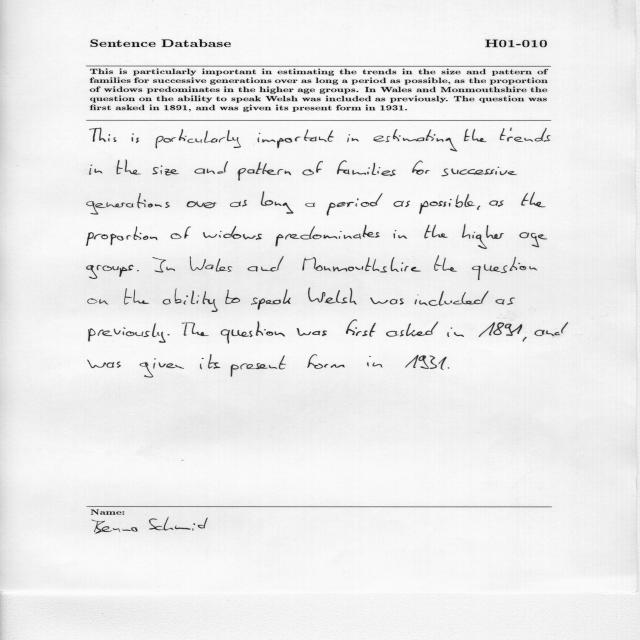word: (275, 225, 380, 246), (374, 129, 458, 152), (87, 193, 170, 215), (302, 257, 421, 272), (155, 129, 241, 148), (89, 323, 166, 343), (472, 257, 537, 280), (257, 130, 334, 149), (221, 322, 285, 344), (87, 227, 157, 246), (163, 288, 218, 312), (327, 193, 383, 216), (231, 355, 286, 377), (420, 194, 476, 214), (415, 291, 489, 306), (462, 224, 504, 249), (238, 162, 291, 181), (337, 161, 396, 177), (251, 289, 291, 310), (140, 359, 184, 378), (203, 226, 262, 240), (308, 288, 357, 304), (386, 322, 438, 337), (441, 167, 517, 177), (261, 192, 294, 214), (500, 128, 551, 142), (87, 265, 134, 279), (479, 322, 522, 337), (190, 257, 232, 272), (405, 355, 447, 370), (248, 256, 284, 272), (307, 354, 345, 369), (346, 320, 376, 337), (535, 322, 569, 336), (194, 161, 228, 174), (124, 288, 149, 305), (519, 233, 547, 248), (181, 322, 209, 336), (90, 128, 117, 142), (116, 160, 141, 175), (434, 256, 457, 272), (521, 192, 545, 207), (152, 257, 175, 272), (424, 225, 448, 239), (200, 355, 220, 370), (302, 161, 323, 175), (464, 129, 486, 142), (87, 360, 121, 368), (152, 166, 179, 176), (412, 160, 430, 175), (171, 226, 191, 239), (297, 328, 327, 336), (370, 298, 404, 305), (187, 201, 217, 208), (225, 290, 240, 304), (367, 356, 382, 367), (495, 297, 515, 305), (447, 328, 464, 337), (90, 165, 103, 175), (393, 230, 407, 239), (88, 299, 108, 305), (230, 200, 247, 207), (489, 200, 504, 207), (394, 201, 411, 207), (347, 134, 359, 142), (132, 133, 139, 143), (305, 203, 315, 207), (523, 337, 527, 342), (477, 206, 480, 210), (137, 270, 139, 271), (168, 334, 170, 335), (448, 368, 449, 369)
